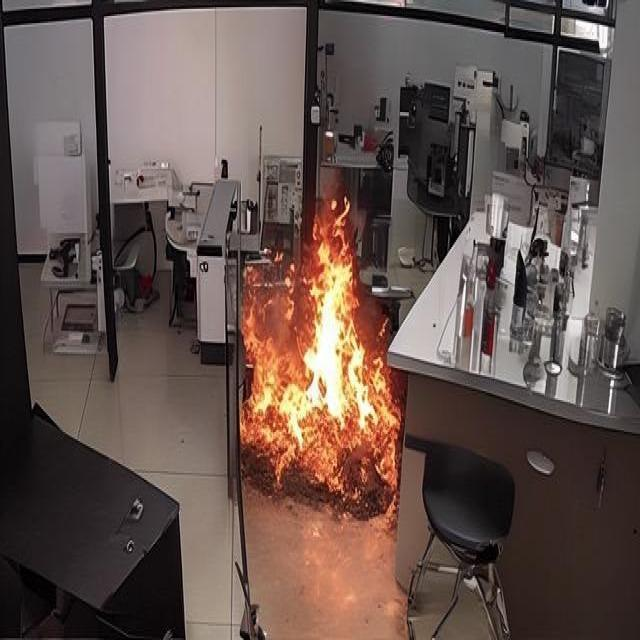smoke: (239, 181, 403, 496)
